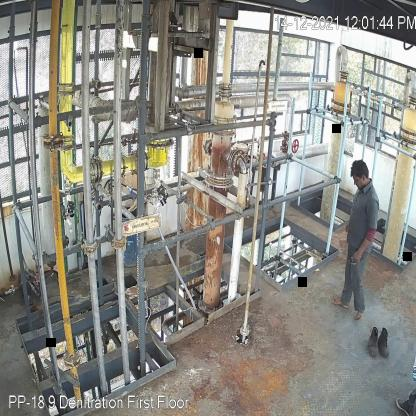no_shoes: (330, 293, 352, 311), (354, 308, 363, 324)
shoes: (379, 328, 391, 357), (368, 327, 378, 356)
